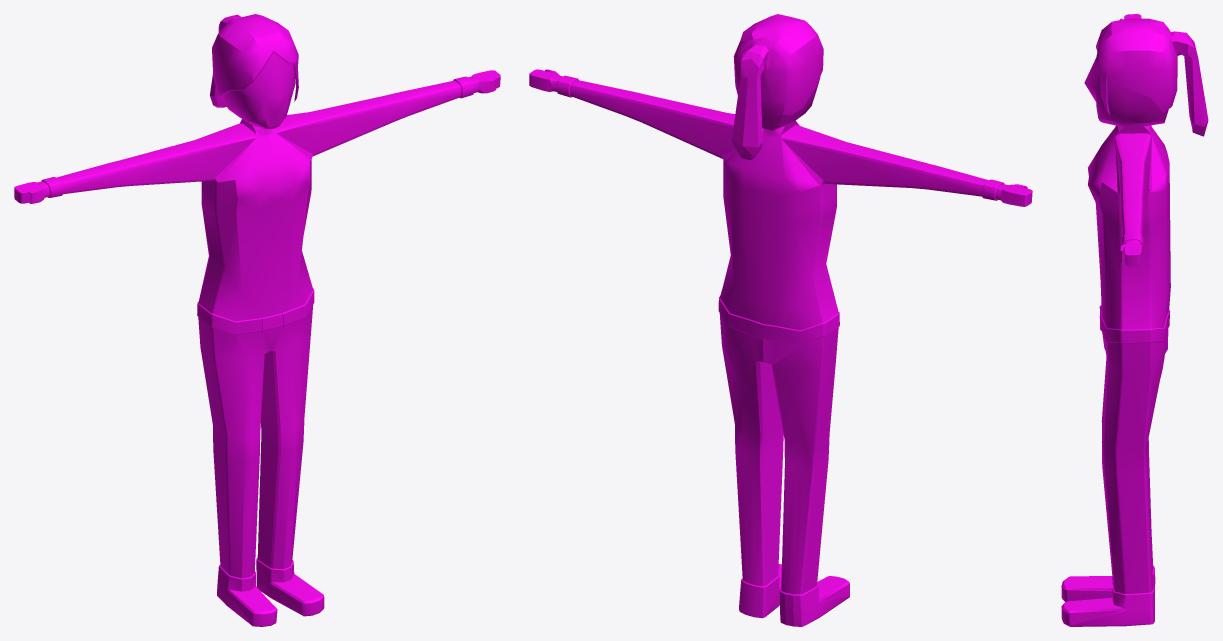
The model's file is npc 2 var 2.fbx.
The picture shows the model from 3 angles, left to right: view 1: azimuth 30°, elevation 25°; view 2: azimuth 150°, elevation 25°; view 3: azimuth 270°, elevation 25°; orthographic projection. The views are drawn at different scales.
Parts seen in each view (by area): view 1: npc_female_var_2; view 2: npc_female_var_2; view 3: npc_female_var_2.
Part boxes in pixels (x1,y1,x2,y2): npc_female_var_2: (14, 14, 500, 626); npc_female_var_2: (529, 14, 1032, 626); npc_female_var_2: (1061, 14, 1208, 626).
Size of the model in its own units: 1.57 by 1.78 by 0.4044.
